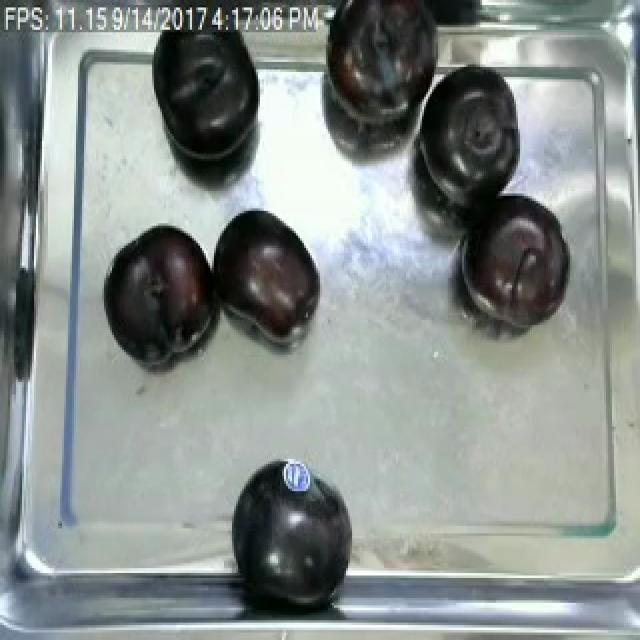Fruit: (218, 452, 362, 622), (98, 218, 220, 365), (452, 191, 574, 335), (146, 27, 268, 169), (210, 201, 328, 345), (318, 0, 440, 134), (416, 69, 526, 211)
